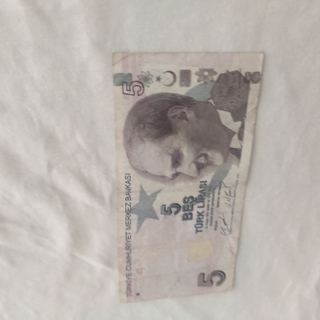5TLFront: (110, 50, 264, 303)
